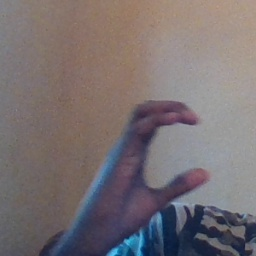C: (102, 94, 218, 215)
